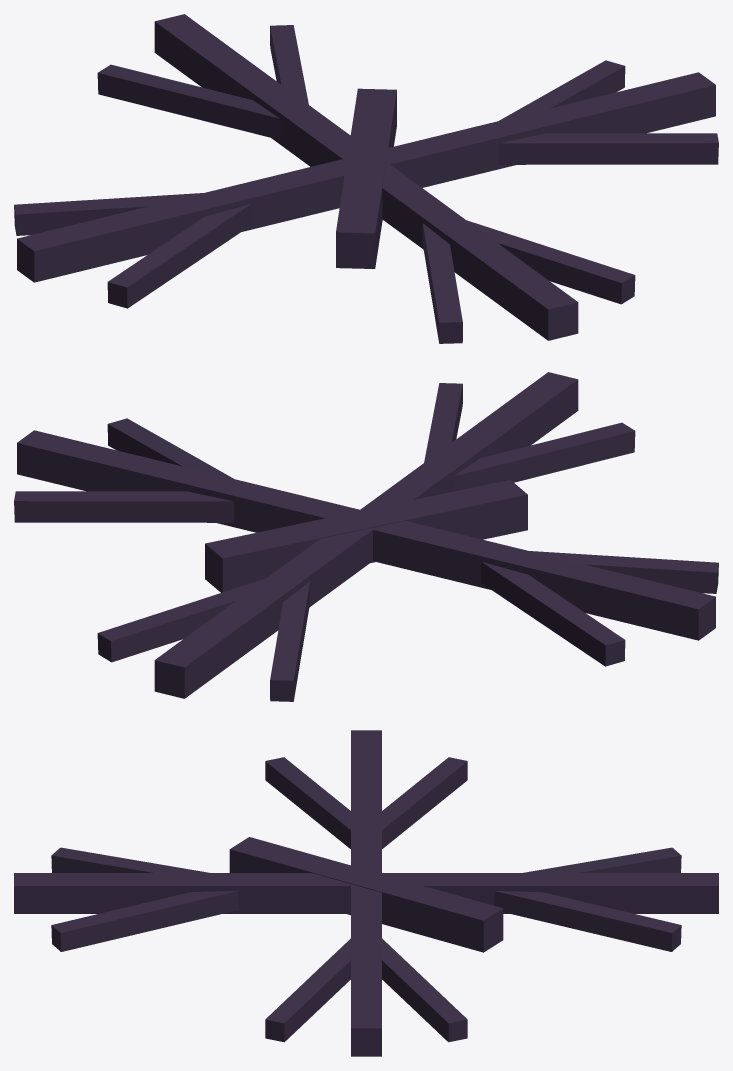
Rendered from CMU3DHiveXenoCollapseResin.glb.
The picture shows the model from 3 angles, top to bottom: view 1: azimuth 30°, elevation 25°; view 2: azimuth 150°, elevation 25°; view 3: azimuth 270°, elevation 25°; orthographic projection. The views are drawn at different scales.
Parts seen in each view (by area): view 1: tile-joining root (×4), branching ground filament (×8), central ground rhizome; view 2: tile-joining root (×4), branching ground filament (×8), central ground rhizome; view 3: tile-joining root (×4), branching ground filament (×8), central ground rhizome.
Boxes of the visible parts, <box> form: tile-joining root (×4): <box>17,14,715,340</box>; branching ground filament (×8): <box>14,25,718,343</box>; central ground rhizome: <box>336,88,396,268</box>; tile-joining root (×4): <box>17,372,715,698</box>; branching ground filament (×8): <box>14,383,718,701</box>; central ground rhizome: <box>205,479,527,592</box>; tile-joining root (×4): <box>14,730,718,1056</box>; branching ground filament (×8): <box>51,757,681,1042</box>; central ground rhizome: <box>229,837,503,952</box>.
Size of the model in its own units: 1 by 0.05 by 1.
